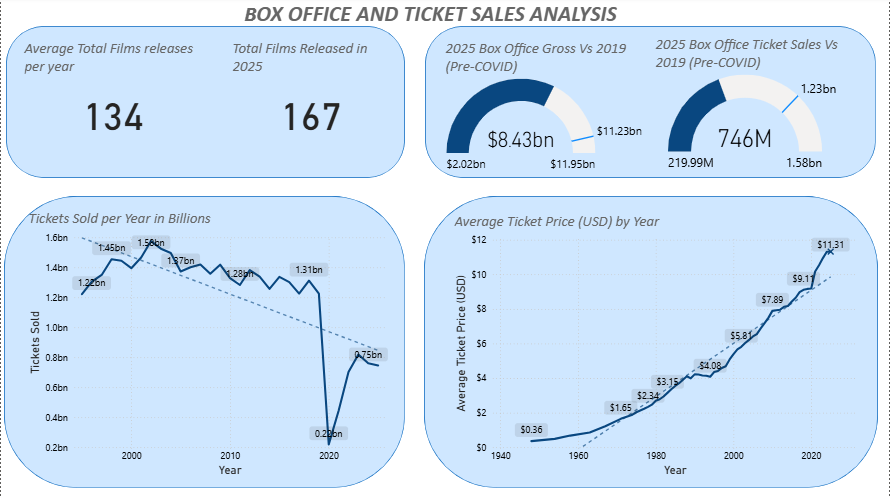

This screenshot's page, from the dashboard's own definition file:
{"tool":"powerbi","page":{"name":"Overview","canvas":[1280,720],"ordinal":1},"visuals":[{"type":"group","id":"g1","title":"Group 1","box":[4.2,41.9,1258.2,665.4],"z":0},{"type":"shape","box":[6.7,41.9,574.6,218.9],"z":0,"group":"g1"},{"type":"shape","box":[608.7,286.8,653.8,420.5],"z":1000,"group":"g1"},{"type":"lineChart","fields":{"Category":["box_office_df.Year"],"Y":["Median(box_office_df.Average Ticket Price (USD))"]},"box":[648,309.6,594.7,385.9],"z":1000},{"type":"lineChart","title":"Tickets Sold per Year in Billions","fields":{"Category":["box_office_df.Year"],"Y":["Median(box_office_df.Tickets Sold)"]},"box":[34.6,305.3,528.5,390.2],"z":2000},{"type":"gauge","title":"2025 Box Office Ticket Sales Vs 2019 (Pre-COVID)","fields":{"MinValue":["Min(box_office_df.Tickets Sold)1"],"MaxValue":["Max(box_office_df.Tickets Sold)2"],"Y":["Table 1 (Sheet1).Target value"],"TargetValue":["Table 1 (Sheet1).Target Value"]},"box":[937.4,54.7,289.4,205.9],"z":3000},{"type":"shape","box":[4.2,286.8,577.4,420.5],"z":3000,"group":"g1"},{"type":"card","title":"Average Total Films releases per year","fields":{"Values":["Avg(Table 1 (Sheet1).Total films released)"]},"box":[28.8,60.5,265,157],"z":4000},{"type":"shape","box":[610.4,42,649.4,218.9],"z":5000,"group":"g1"},{"type":"card","title":"Total Films Released in 2025","fields":{"Values":["box_office_df.Measure"]},"box":[328.3,60.5,234.7,157],"z":5000},{"type":"gauge","title":"2025 Box Office  Gross Vs 2019 (Pre-COVID)","fields":{"MinValue":["Min(box_office_df.Total Box Office)"],"MaxValue":["Max(box_office_df.Total Box Office)1"],"Y":["Table 1 (Sheet1).value 2"],"TargetValue":["Table 1 (Sheet1).Target value 2"]},"box":[635,60.5,299.5,200.2],"z":6000},{"type":"textbox","box":[288,0,661,72],"z":7000},{"type":"image","box":[1203.8,0,76.3,60.5],"z":8000}]}

Visuals, with their boxes in screenshot pixels (x1, y1, x2, y2), scaled from the page's 1280x720 canvas onto the 890x497 screenshot:
"Group 1" group: [3, 29, 878, 488]
shape: [5, 29, 404, 180]
shape: [423, 198, 878, 488]
lineChart - box_office_df.Year x Median(box_office_df.Average Ticket Price (USD)): [451, 214, 864, 480]
"Tickets Sold per Year in Billions" lineChart: [24, 211, 392, 480]
"2025 Box Office Ticket Sales Vs 2019 (Pre-COVID)" gauge: [652, 38, 853, 180]
shape: [3, 198, 404, 488]
"Average Total Films releases per year" card: [20, 42, 204, 150]
shape: [424, 29, 876, 180]
"Total Films Released in 2025" card: [228, 42, 391, 150]
"2025 Box Office  Gross Vs 2019 (Pre-COVID)" gauge: [442, 42, 650, 180]
textbox: [200, 0, 660, 50]
image: [837, 0, 889, 42]
